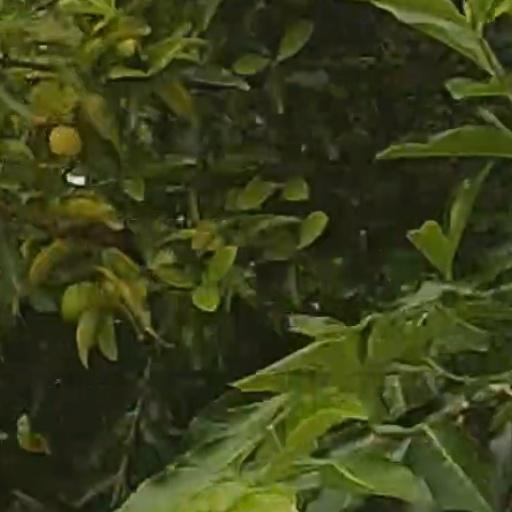acerola_vermelha: (50, 128, 82, 155)
